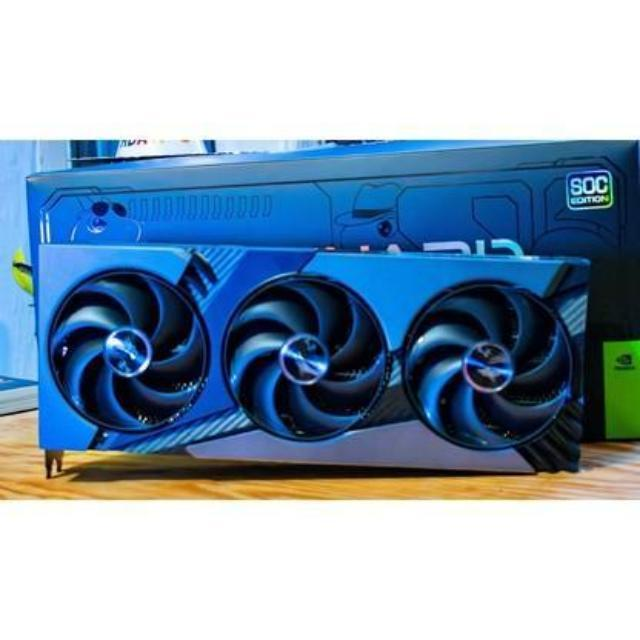GPU: (32, 245, 600, 482)
